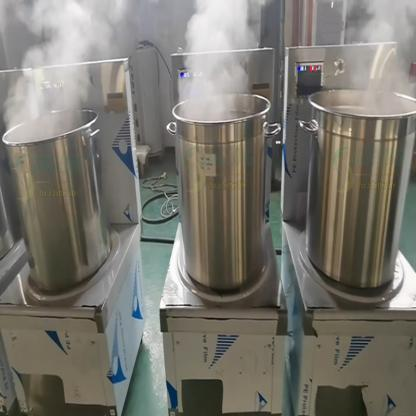smoke: (4, 3, 134, 143), (177, 5, 260, 126), (334, 3, 416, 124)
